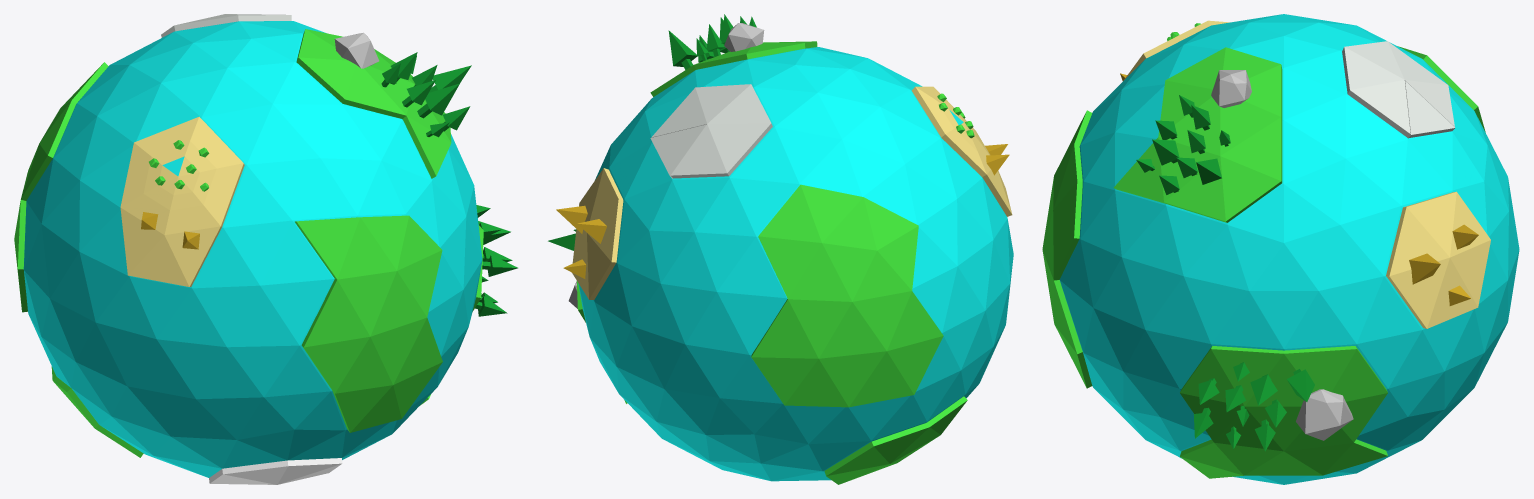
File: Earth1.glb
3 views of the same model, side by side, from view 1: azimuth 30°, elevation 25°; view 2: azimuth 150°, elevation 25°; view 3: azimuth 270°, elevation 25° (orthographic). The views are drawn at different scales.
Parts seen in each view (by area): view 1: Icosphere; view 2: Icosphere; view 3: Icosphere.
Part boxes in pixels (box(x1,y1,x2,y2)): Icosphere: box(14, 14, 517, 484); Icosphere: box(548, 14, 1013, 484); Icosphere: box(1042, 14, 1519, 484).
Size of the model in its own units: 2.39 by 2.15 by 2.15.
